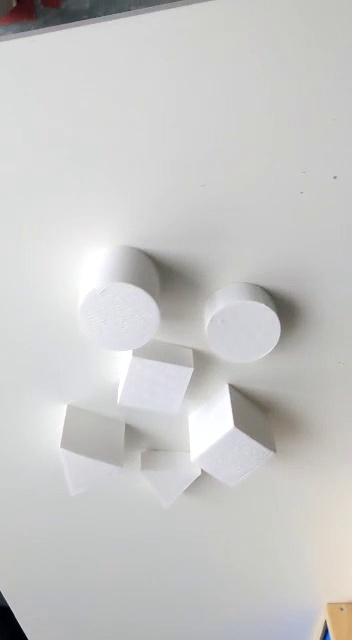Clyinder_short: (200, 279, 283, 367)
Cube: (184, 383, 282, 496)
Cube_short: (106, 333, 200, 420)
Cylinder: (72, 244, 167, 355)
Triangle: (55, 398, 132, 498)
Triangle_short: (136, 448, 204, 506)
